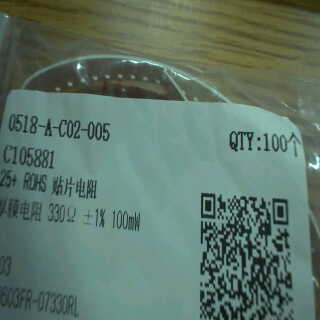330R: (43, 200, 82, 227)
